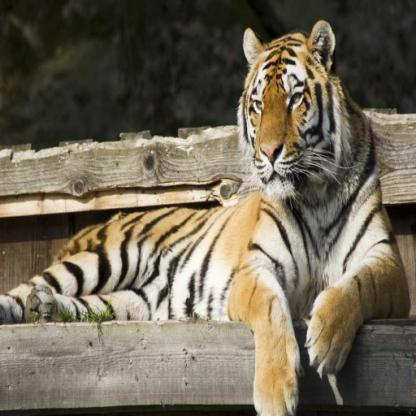Tiger: (5, 19, 410, 408)
